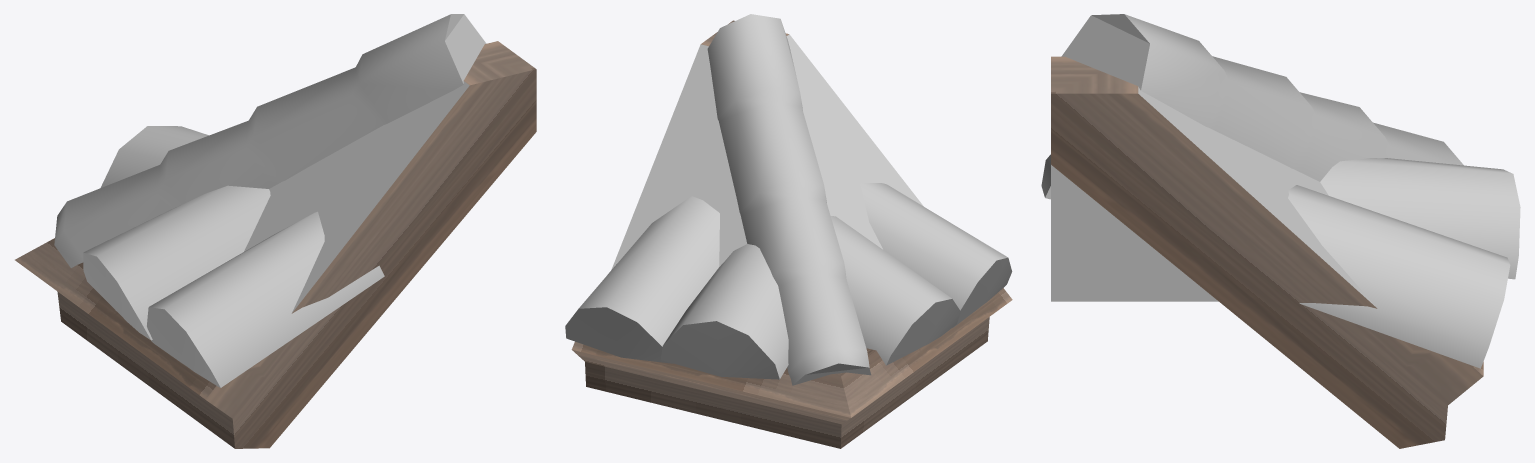
The model's file is SM_HouseRoof_Angle_Overhang_01.fbx.
The picture shows the model from 3 angles, left to right: view 1: azimuth 30°, elevation 25°; view 2: azimuth 150°, elevation 25°; view 3: azimuth 270°, elevation 25°; orthographic projection. The views are drawn at different scales.
Visible parts, largest first — view 1: SM_HouseRoof_Angle_Overhang_01_LOD0; view 2: SM_HouseRoof_Angle_Overhang_01_LOD0; view 3: SM_HouseRoof_Angle_Overhang_01_LOD0.
Part boxes in pixels (x1,y1,x2,y2): SM_HouseRoof_Angle_Overhang_01_LOD0: [15, 14, 536, 448]; SM_HouseRoof_Angle_Overhang_01_LOD0: [565, 14, 1012, 448]; SM_HouseRoof_Angle_Overhang_01_LOD0: [1041, 14, 1520, 448].
Size of what is drawn, in the model's own units: 1.31 by 1.28 by 1.37.
